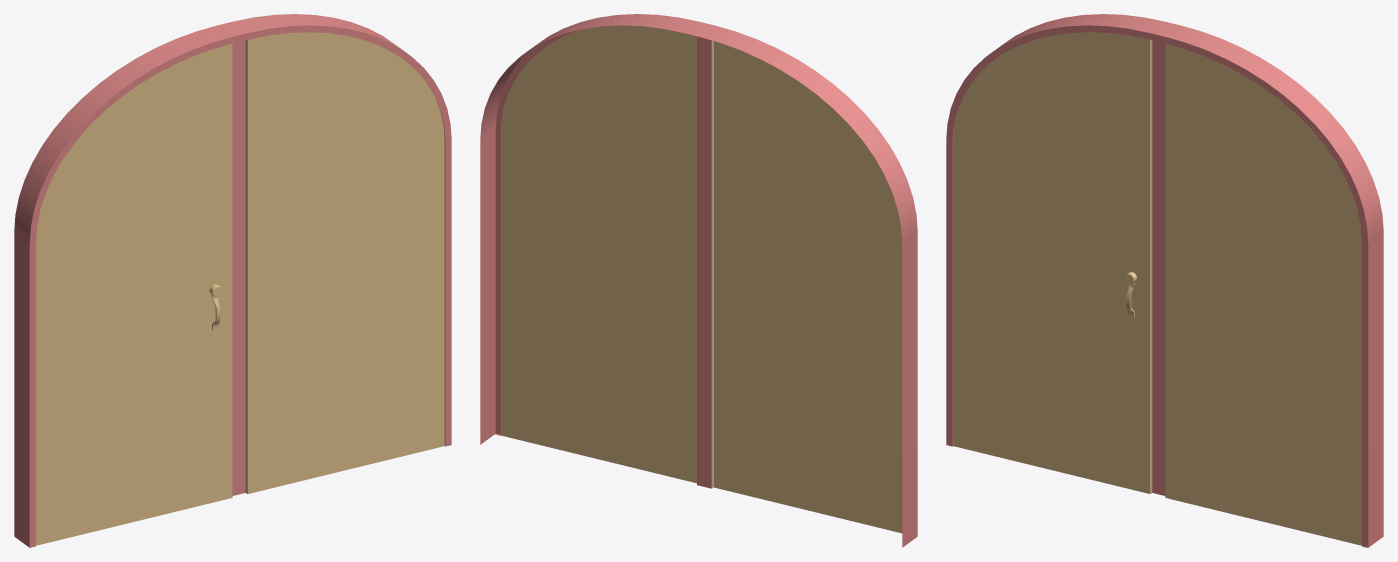
Rendered from mainDoor.fbx.
3 views of the same model, side by side, from view 1: azimuth 30°, elevation 25°; view 2: azimuth 150°, elevation 25°; view 3: azimuth 330°, elevation 25° (orthographic).
Visible parts, largest first — view 1: mainDoor; view 2: mainDoor; view 3: mainDoor.
Part boxes in pixels (box(x1,y1,x2,y2)): mainDoor: box(14, 14, 451, 547); mainDoor: box(480, 14, 917, 547); mainDoor: box(946, 14, 1383, 547).
Size of the model in its own units: 2.31 by 2.41 by 0.1776.
